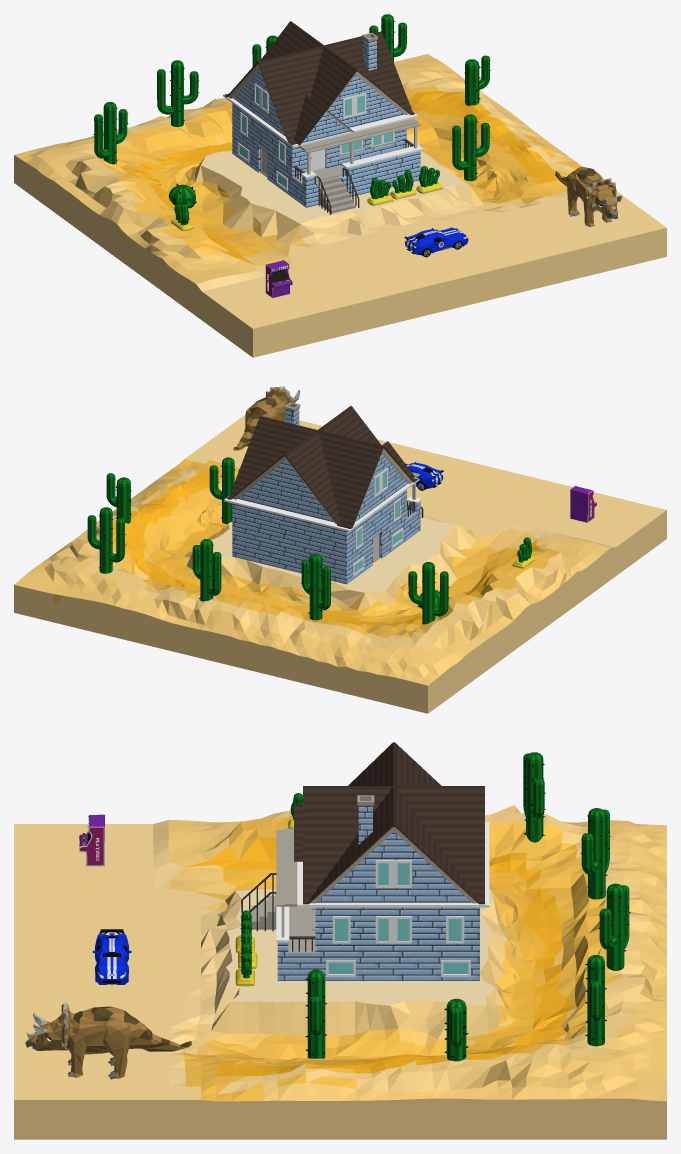
3 renders of one model, top to bottom at view 1: azimuth 30°, elevation 25°; view 2: azimuth 150°, elevation 25°; view 3: azimuth 270°, elevation 25°, orthographic. The views are drawn at different scales.
Parts seen in each view (by area): view 1: Cube.001, Cube.547, ANIMAL_Triceratops, Cylinder.044, Cylinder.037, Cylinder.045, VEHICLES_RACING_CAR, Cylinder.038, OBJRANDOM_ARCADE, Cylinder.042, Cylinder.039, Cylinder.041; view 2: Cube.001, Cube.547, Cylinder.042, Cylinder.045, Cylinder.044, ANIMAL_Triceratops, Cylinder.043, Cylinder.037, Cylinder.038, OBJRANDOM_ARCADE, VEHICLES_RACING_CAR; view 3: Cube.001, Cube.547, ANIMAL_Triceratops, Cylinder.043, Cylinder.044, VEHICLES_RACING_CAR, Cylinder.045, Cylinder.037, Cylinder.042, Cylinder.038, OBJRANDOM_ARCADE, Cylinder.041.
Part boxes in pixels (x1,y1,x2,y2): Cube.001: (14,54,666,357); Cube.547: (223,21,423,214); ANIMAL_Triceratops: (555,166,622,226); Cylinder.044: (157,60,199,126); Cylinder.037: (451,114,490,181); Cylinder.045: (93,102,128,164); VEHICLES_RACING_CAR: (404,227,468,257); Cylinder.038: (464,55,490,105); OBJRANDOM_ARCADE: (265,260,292,297); Cylinder.042: (369,14,407,62); Cylinder.039: (367,178,393,205); Cylinder.041: (416,166,442,193); Cube.001: (14,414,666,713); Cube.547: (224,402,423,584); Cylinder.042: (87,507,125,573); Cylinder.045: (408,562,449,624); Cylinder.044: (301,553,331,620); ANIMAL_Triceratops: (233,386,300,450); Cylinder.043: (192,539,221,601); Cylinder.037: (209,457,239,523); Cylinder.038: (106,473,131,523); OBJRANDOM_ARCADE: (570,485,597,522); VEHICLES_RACING_CAR: (405,462,443,490); Cube.001: (14,805,666,1139); Cube.547: (241,742,489,980); ANIMAL_Triceratops: (25,1002,191,1079); Cylinder.043: (598,883,630,970); Cylinder.044: (580,808,610,899); VEHICLES_RACING_CAR: (92,929,131,984); Cylinder.045: (523,752,545,842); Cylinder.037: (305,969,326,1058); Cylinder.042: (585,955,606,1046); Cylinder.038: (444,998,468,1061); OBJRANDOM_ARCADE: (79,814,104,866); Cylinder.041: (235,943,254,986).
Size of the model in its own units: 4002 by 1728 by 4001.
38 materials, 3 textured.
